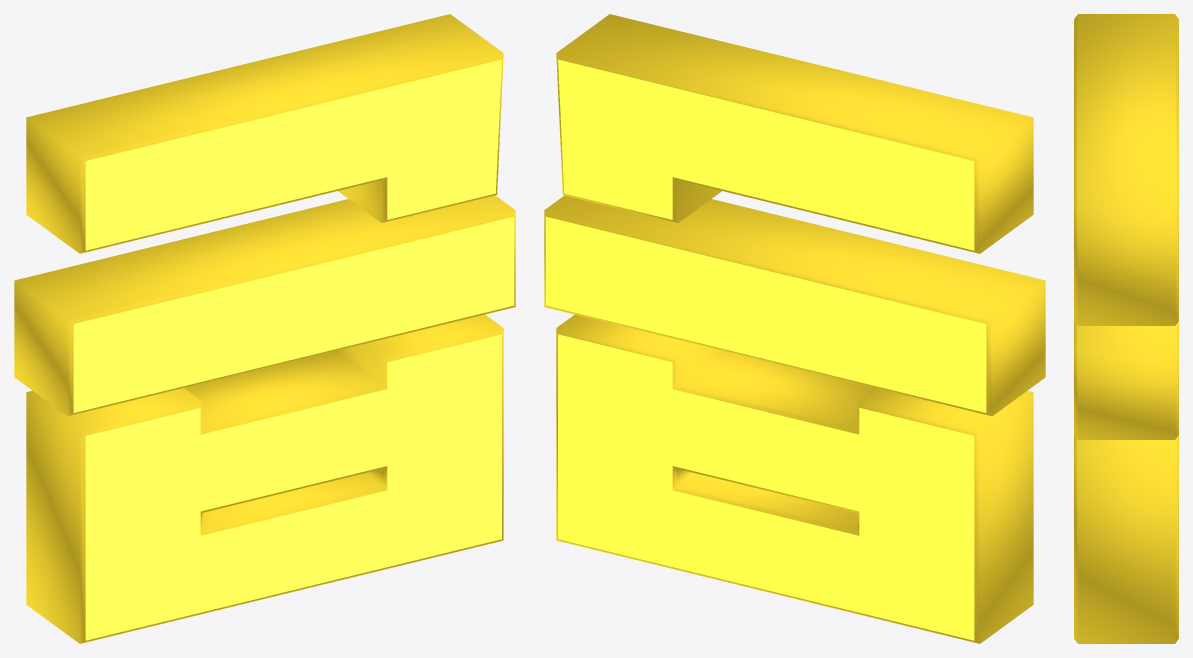
3 views of the same model, side by side, from view 1: azimuth 30°, elevation 25°; view 2: azimuth 150°, elevation 25°; view 3: azimuth 270°, elevation 25° (orthographic). The views are drawn at different scales.
Parts seen in each view (by area): view 1: glyph; view 2: glyph; view 3: glyph.
Part boxes in pixels (x1,y1,x2,y2): glyph: (14,14,515,643); glyph: (544,14,1045,643); glyph: (1074,14,1178,643).
Size of the model in its own units: 0.0726 by 0.0755 by 0.0162.
